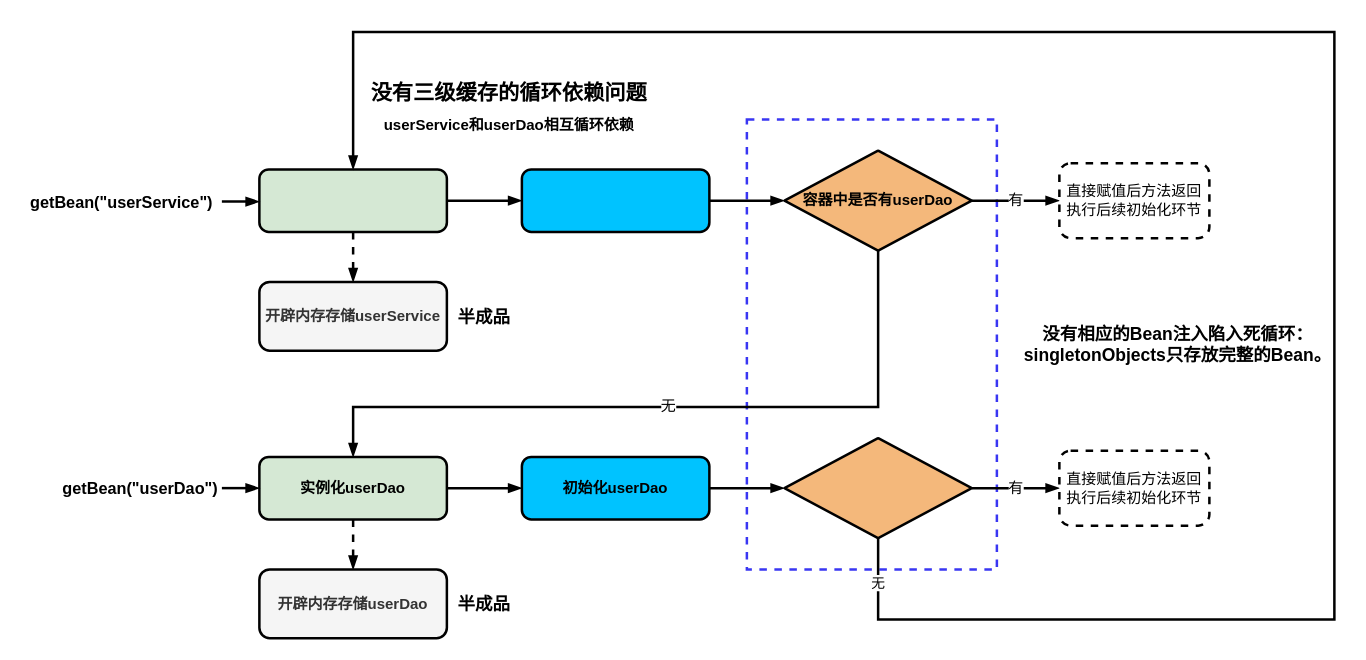
This 1366x660 diagram has some shape labels left out. Each missing label, with the box of its shape:
初始化userService: (520, 168, 710, 232)
实例化userService: (258, 168, 448, 232)
容器中是否有userService: (782, 436, 972, 539)
